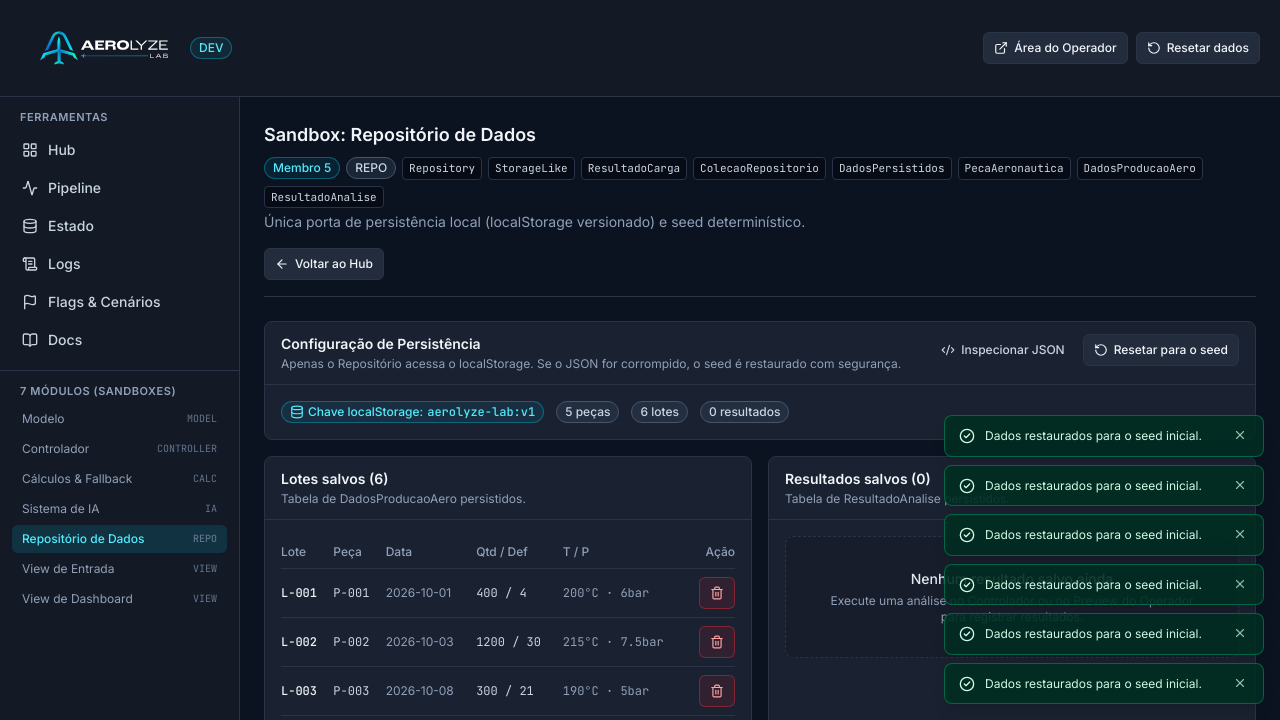
Test case: Testes de componentes e integração de fluxo (React Testing Library) › lista registros, exclui lote e restaura o seed no sandbox do Repositório
Expected: the heading "Configuração de Persistência" is shown, [281, 335, 481, 352]
Expected: the text "aerolyze-lab:v1" is shown, [427, 404, 535, 420]
Click the button named "Excluir lote L-001" at (717, 593), box [699, 577, 735, 609]
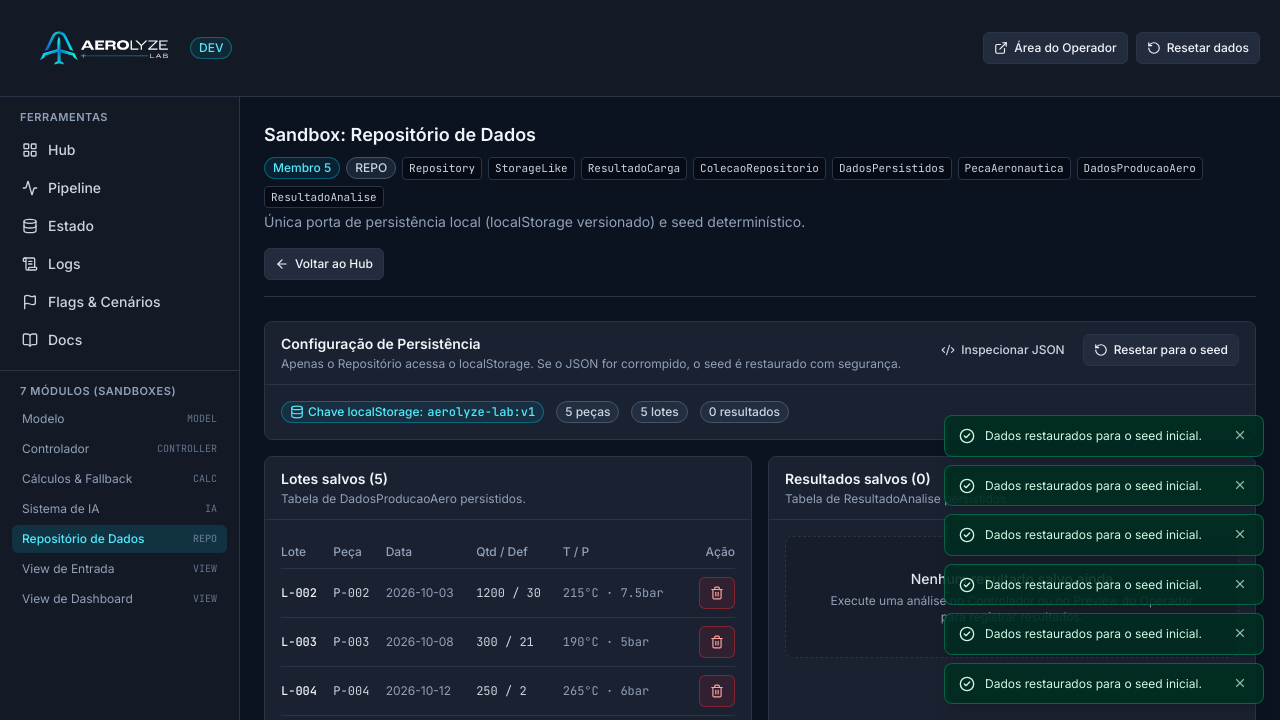
Now the text "L-001" is gone
Click the button "Resetar para o seed" at (1161, 350), box [1083, 334, 1239, 366]
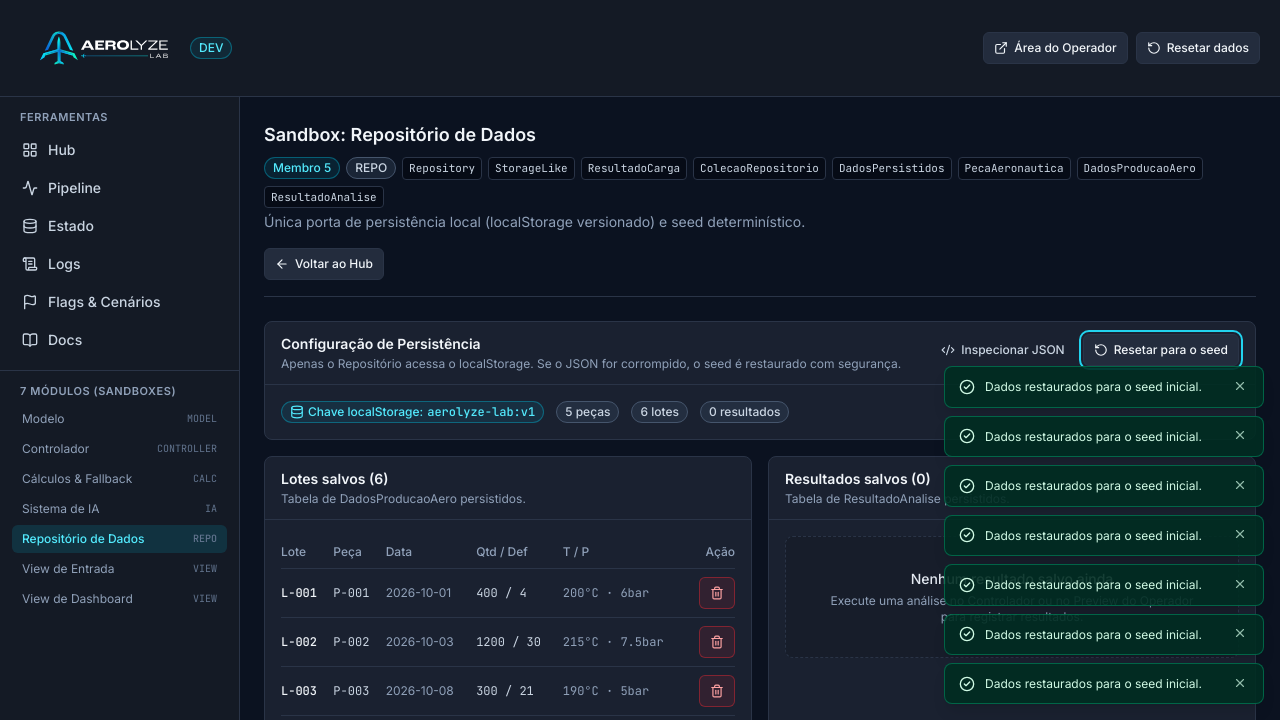
Now the text "L-001" is shown, box [281, 568, 333, 618]
